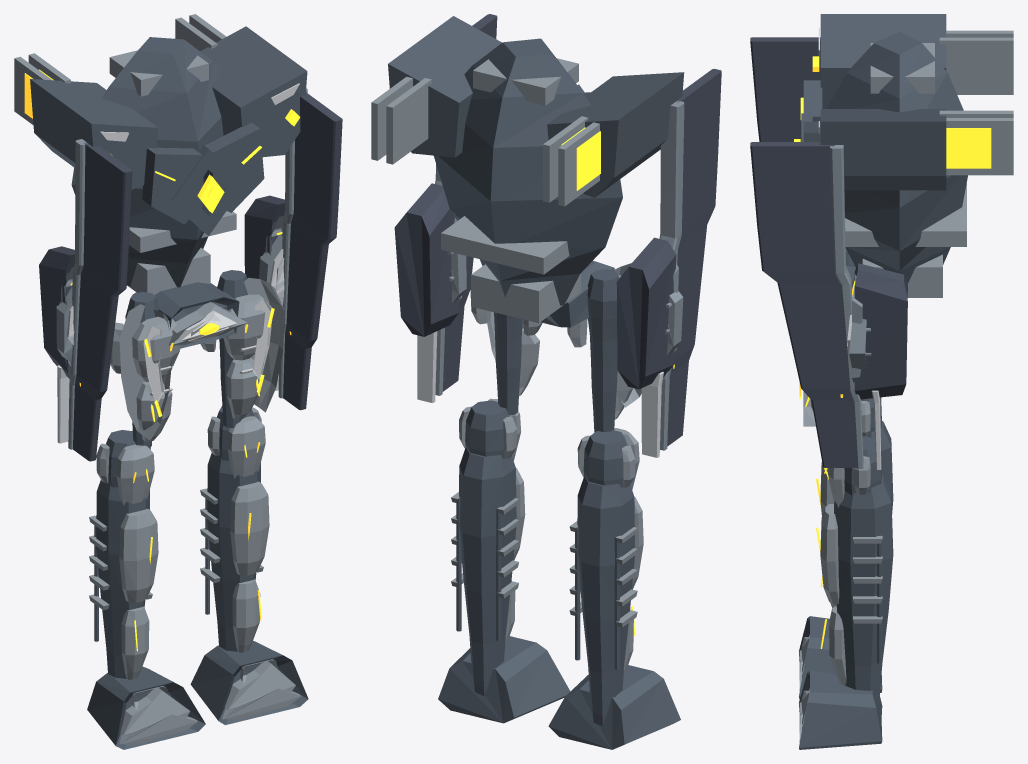
Rendered from Assembly_BasicW.glb.
3 renders of one model, left to right at view 1: azimuth 30°, elevation 25°; view 2: azimuth 150°, elevation 25°; view 3: azimuth 270°, elevation 25°, orthographic. The views are drawn at different scales.
Parts seen in each view (by area): view 1: BasicTorsoW_Skel_part00, BasicArmW_Left_Skel_part00, BasicLegsW_Skel_part05, BasicArmW_Right_Skel_part00, BasicLegsW_Skel_part02, BasicLegsW_Skel_part01, BasicLegsW_Skel_part04, BasicLegsW_Skel_part03, BasicLegsW_Skel_part06, BasicLegsW_Skel_part00, BasicTorsoW_Skel_part01, BasicArmW_Left_Skel_part01 (+2 smaller); view 2: BasicTorsoW_Skel_part00, BasicLegsW_Skel_part05, BasicLegsW_Skel_part02, BasicArmW_Left_Skel_part00, BasicTorsoW_Skel_part01, BasicArmW_Left_Skel_part01, BasicArmW_Right_Skel_part01, BasicLegsW_Skel_part03, BasicLegsW_Skel_part06, BasicLegsW_Skel_part04, BasicLegsW_Skel_part01, BasicArmW_Right_Skel_part00 (+3 smaller); view 3: BasicTorsoW_Skel_part00, BasicArmW_Right_Skel_part00, BasicLegsW_Skel_part02, BasicTorsoW_Skel_part01, BasicArmW_Right_Skel_part01, BasicArmW_Left_Skel_part00, BasicLegsW_Skel_part03, BasicLegsW_Skel_part05, BasicLegsW_Skel_part06, BasicArmW_Right_Skel_part02.
Part boxes in pixels (<box>): BasicTorsoW_Skel_part00: <box>30,26,307,294</box>; BasicArmW_Left_Skel_part00: <box>68,139,132,461</box>; BasicLegsW_Skel_part05: <box>89,430,158,679</box>; BasicArmW_Right_Skel_part00: <box>278,88,342,410</box>; BasicLegsW_Skel_part02: <box>200,406,269,652</box>; BasicLegsW_Skel_part01: <box>200,270,284,427</box>; BasicLegsW_Skel_part04: <box>110,292,180,448</box>; BasicLegsW_Skel_part03: <box>190,640,308,725</box>; BasicLegsW_Skel_part06: <box>87,666,205,749</box>; BasicLegsW_Skel_part00: <box>134,282,246,348</box>; BasicTorsoW_Skel_part01: <box>14,14,300,213</box>; BasicArmW_Left_Skel_part01: <box>39,246,74,378</box>; BasicTorsoW_Skel_part00: <box>388,16,684,323</box>; BasicLegsW_Skel_part05: <box>569,428,643,725</box>; BasicLegsW_Skel_part02: <box>451,398,525,695</box>; BasicArmW_Left_Skel_part00: <box>659,68,721,450</box>; BasicTorsoW_Skel_part01: <box>371,76,600,206</box>; BasicArmW_Left_Skel_part01: <box>616,237,683,389</box>; BasicArmW_Right_Skel_part01: <box>394,183,466,336</box>; BasicLegsW_Skel_part03: <box>438,636,570,723</box>; BasicLegsW_Skel_part06: <box>548,665,680,749</box>; BasicLegsW_Skel_part04: <box>567,263,641,432</box>; BasicLegsW_Skel_part01: <box>470,283,542,415</box>; BasicArmW_Right_Skel_part00: <box>435,14,497,395</box>; BasicTorsoW_Skel_part00: <box>801,14,967,297</box>; BasicArmW_Right_Skel_part00: <box>750,142,863,468</box>; BasicLegsW_Skel_part02: <box>816,436,893,710</box>; BasicTorsoW_Skel_part01: <box>794,30,1013,175</box>; BasicArmW_Right_Skel_part01: <box>847,263,907,399</box>; BasicArmW_Left_Skel_part00: <box>750,37,820,141</box>; BasicLegsW_Skel_part03: <box>799,671,882,749</box>; BasicLegsW_Skel_part05: <box>816,397,893,607</box>; BasicLegsW_Skel_part06: <box>799,616,882,699</box>; BasicArmW_Right_Skel_part02: <box>840,390,881,469</box>.
Bounding box in the file's own units: 12.07 × 30.35 × 10.95.
